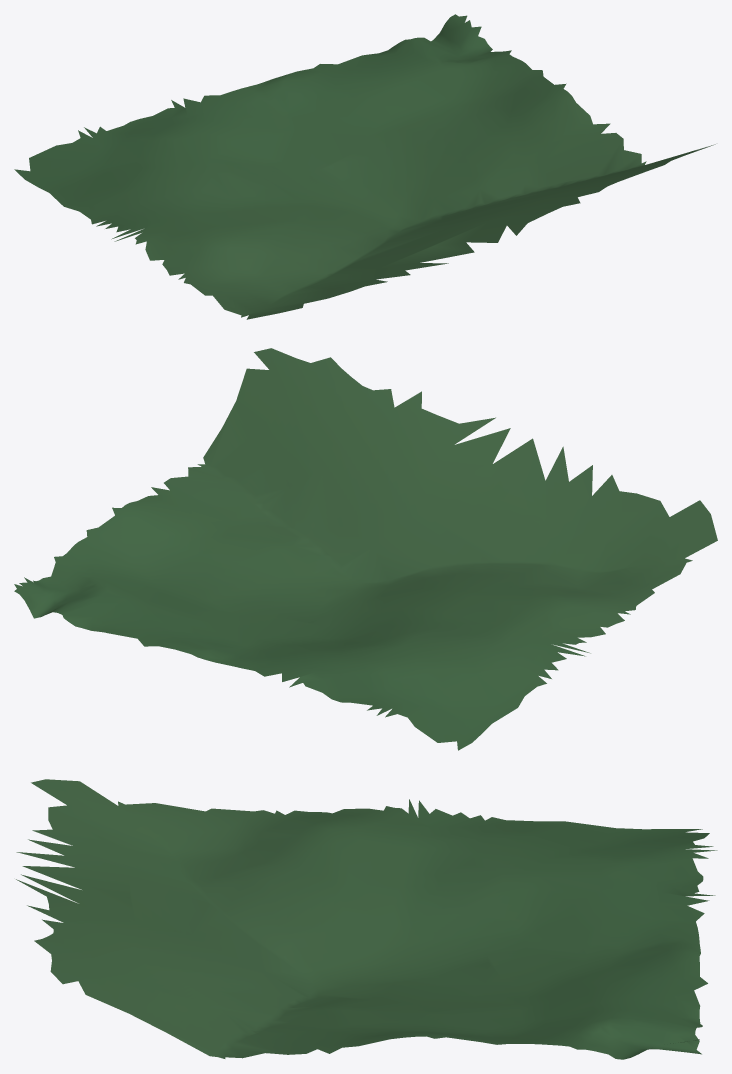
The model's file is payo_land_xm2_y9_lod1.glb.
3 renders of one model, top to bottom at view 1: azimuth 30°, elevation 25°; view 2: azimuth 150°, elevation 25°; view 3: azimuth 270°, elevation 25°, orthographic. The views are drawn at different scales.
Visible parts, largest first — view 1: payo_land_xm2_y9; view 2: payo_land_xm2_y9; view 3: payo_land_xm2_y9.
Part boxes in pixels (x1,y1,x2,y2): payo_land_xm2_y9: (14, 14, 715, 319); payo_land_xm2_y9: (14, 348, 717, 750); payo_land_xm2_y9: (16, 779, 717, 1059).
Size of the model in its own units: 271 by 59.57 by 276.
